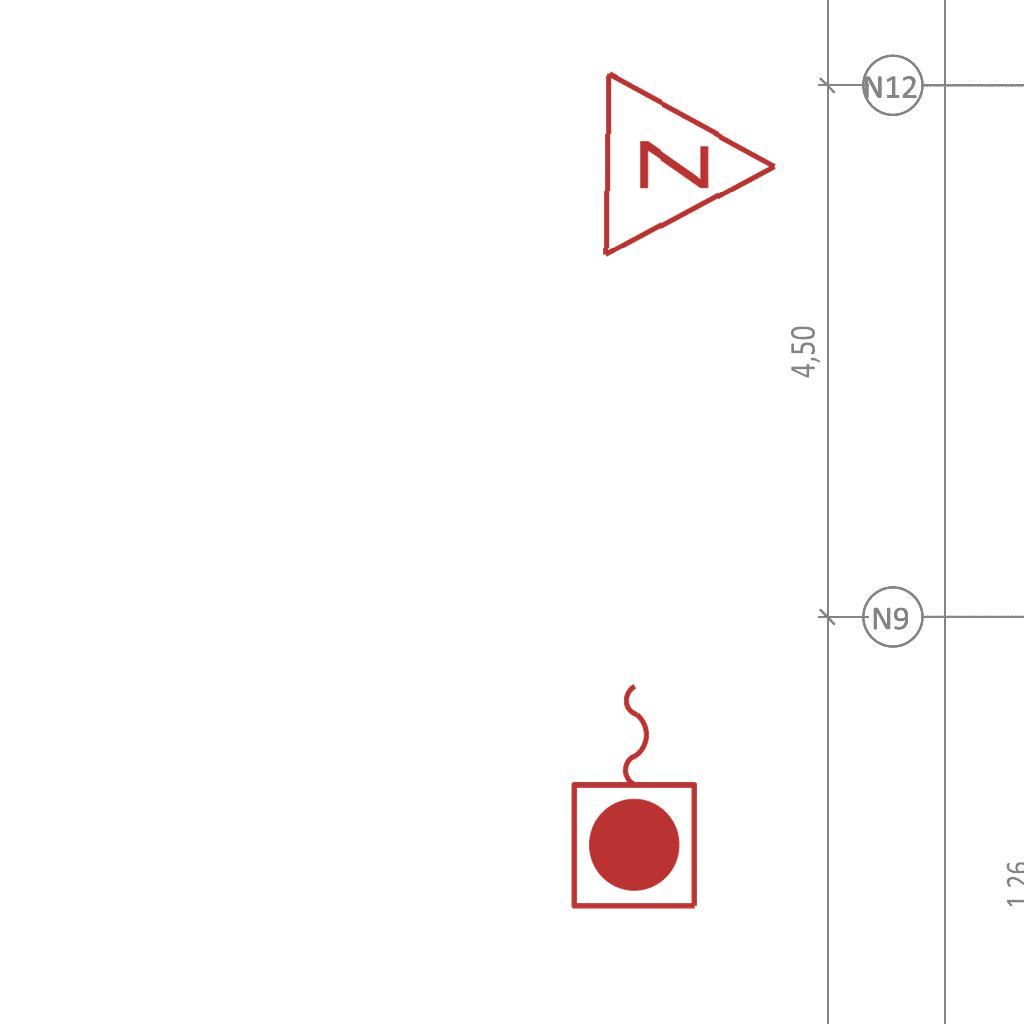Zimmersignalleuchte: (588, 63, 792, 263)
Zugtaster: (564, 673, 708, 917)
